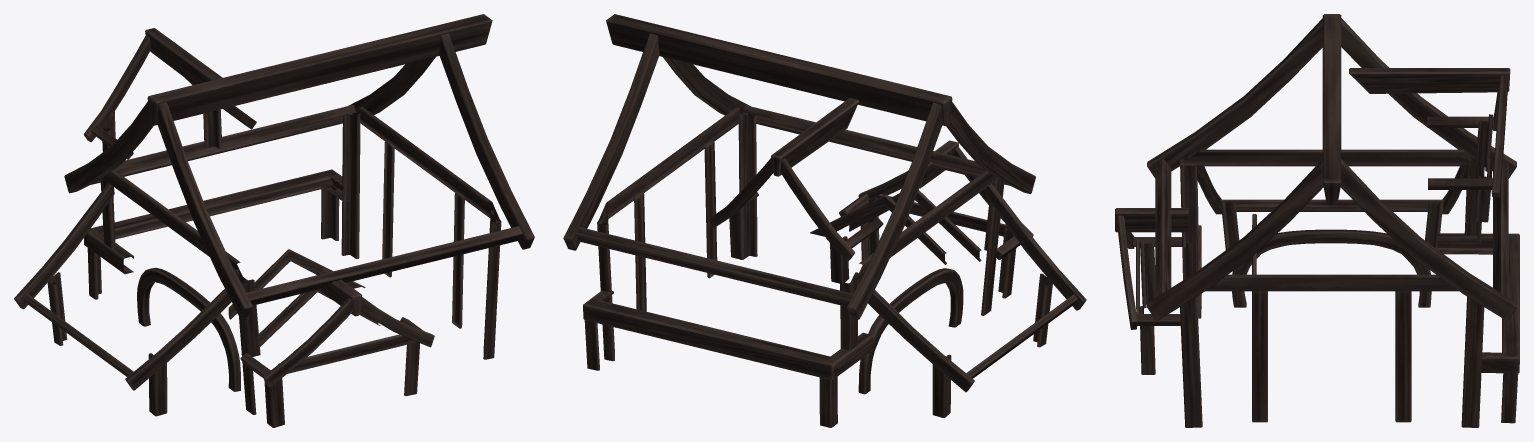
Rendered from m_SupportPlanks_v2.fbx.
The picture shows the model from 3 angles, left to right: view 1: azimuth 30°, elevation 25°; view 2: azimuth 150°, elevation 25°; view 3: azimuth 270°, elevation 25°; orthographic projection. The views are drawn at different scales.
Visible parts, largest first — view 1: SupportPlanks; view 2: SupportPlanks; view 3: SupportPlanks.
Boxes of the visible parts, left/top/right/bottom form: SupportPlanks: left=14, top=14, right=534, bottom=427; SupportPlanks: left=563, top=14, right=1086, bottom=427; SupportPlanks: left=1115, top=14, right=1519, bottom=427.
Size of the model in its own units: 908 by 566 by 743.
